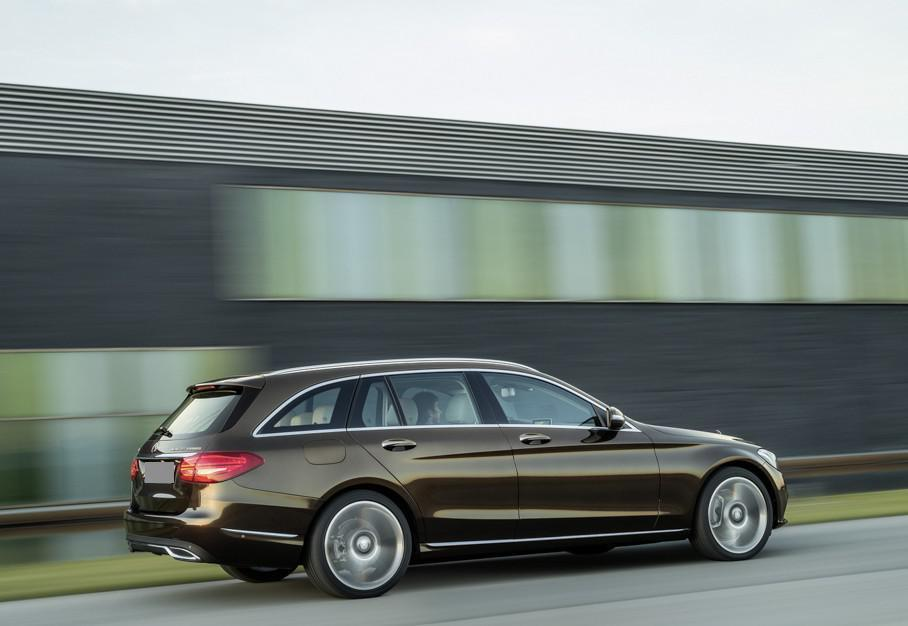Wagon: (124, 357, 789, 599)
